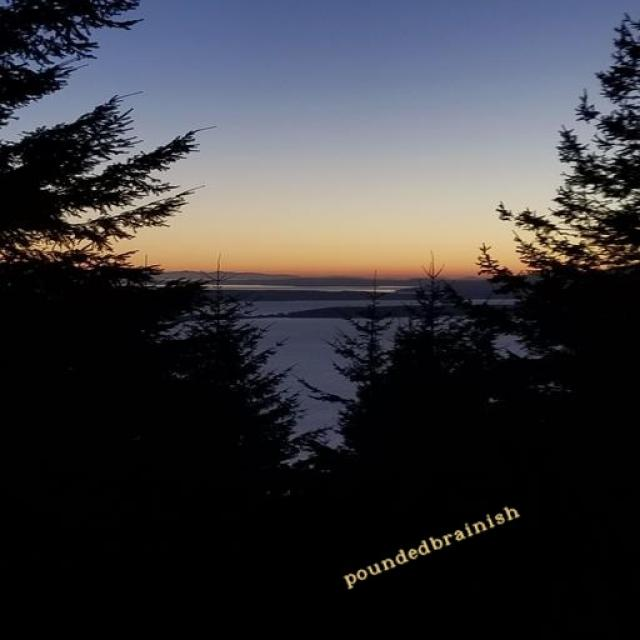watermark: (340, 500, 520, 588)
